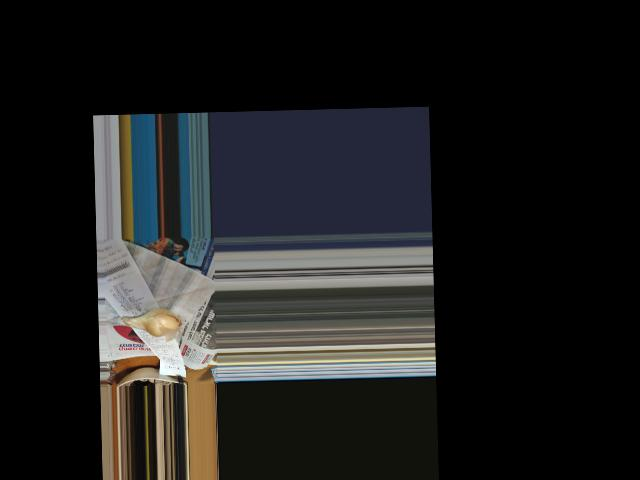onion: (125, 301, 180, 339)
